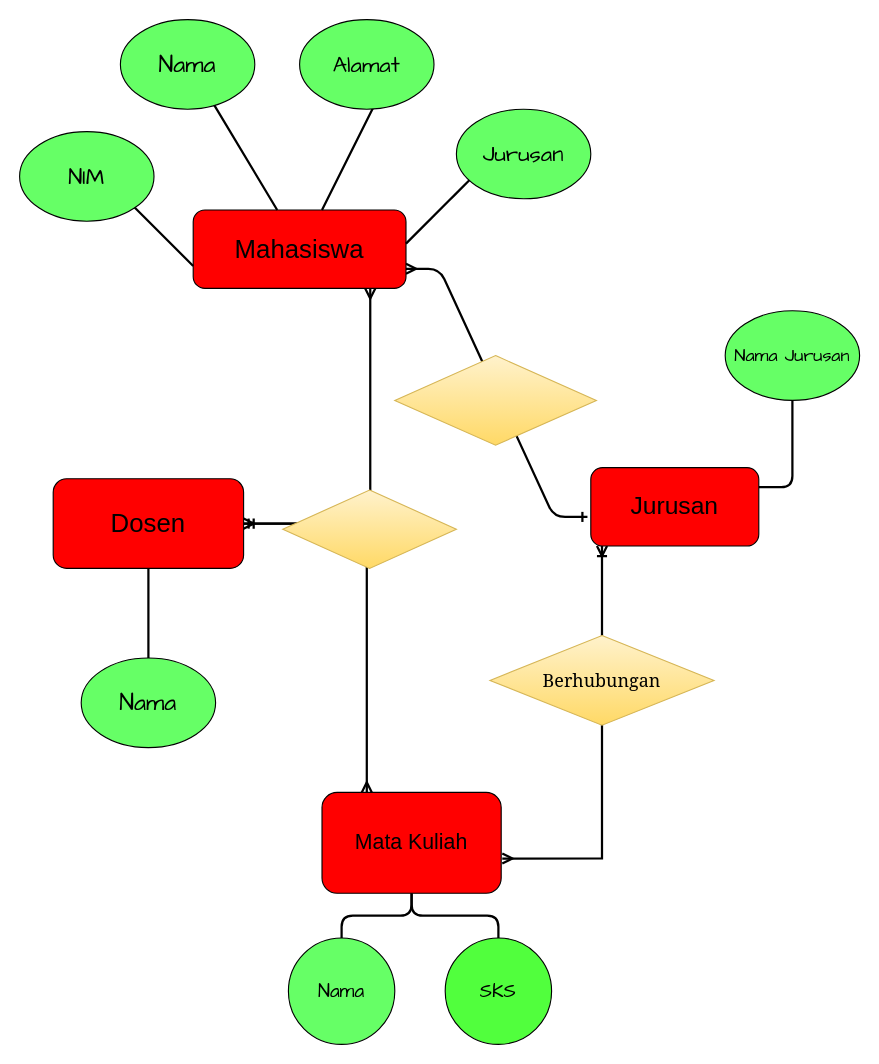
Some shapes in this 879 by 1064 pixel diagram are drawn without their labels. Here are the shapes that lost their labels. From the top down, the centre of each, then its label:
At [495,399]: "Memiliki".
At [369,528]: "Mengajar".
